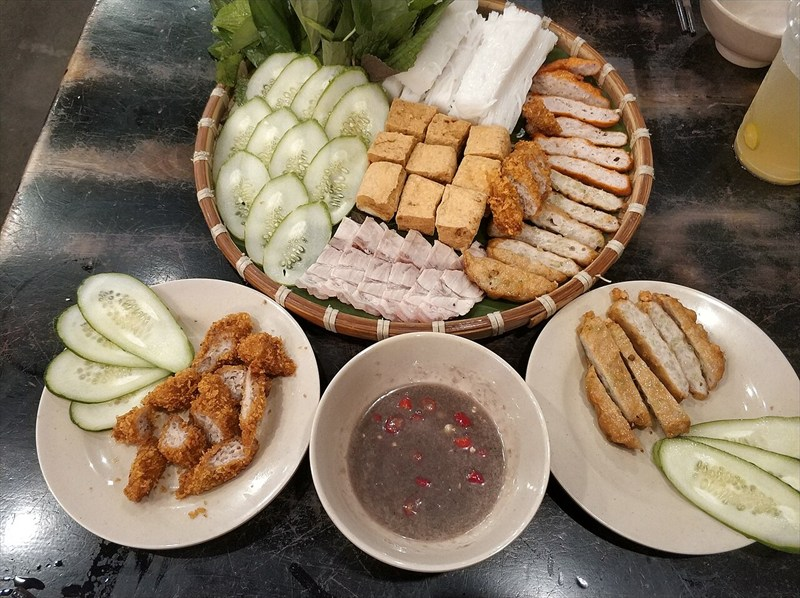Tahu Goreng: (87, 64, 703, 499)
